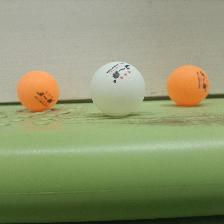WhiteBall: (91, 62, 143, 117)
YellowBall: (17, 69, 59, 111), (167, 64, 209, 105)
